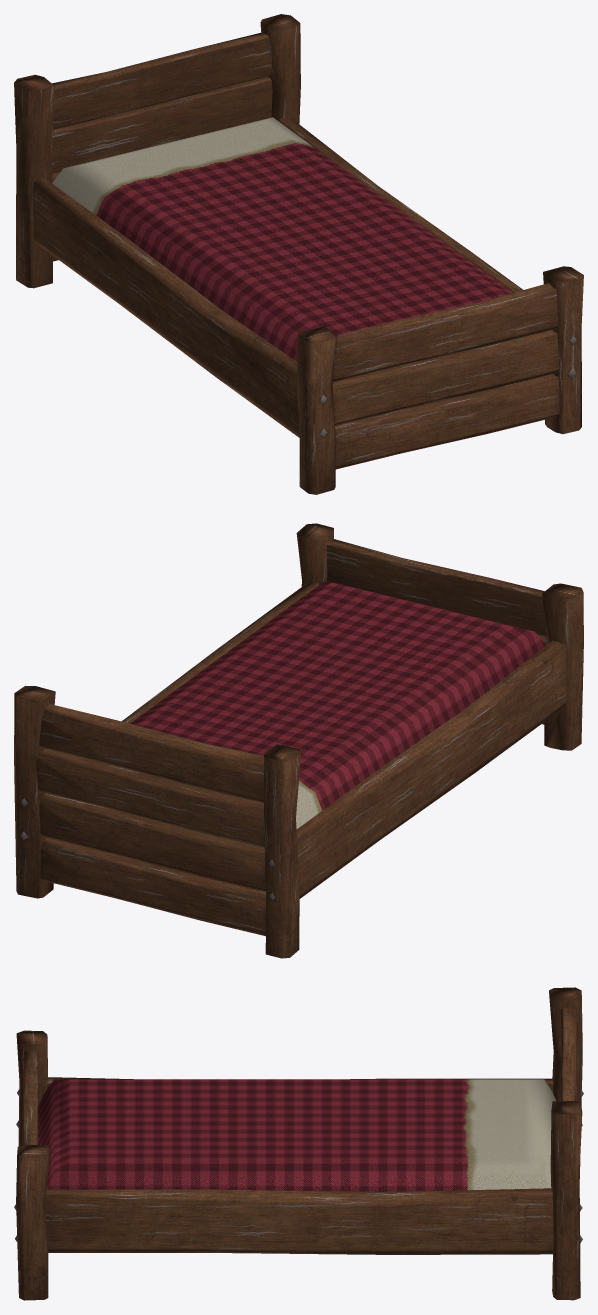
3 renders of one model, top to bottom at view 1: azimuth 30°, elevation 25°; view 2: azimuth 150°, elevation 25°; view 3: azimuth 270°, elevation 25°, orthographic. The views are drawn at different scales.
Parts seen in each view (by area): view 1: defaultobject; view 2: defaultobject; view 3: defaultobject.
Boxes of the visible parts, box(x1,y1,x2,y2) form: defaultobject: box(14, 14, 583, 494); defaultobject: box(14, 523, 583, 958); defaultobject: box(14, 987, 583, 1300).
Size of the model in its own units: 11.42 by 7.75 by 21.5.
Materials: 2 (2 with a texture image).
